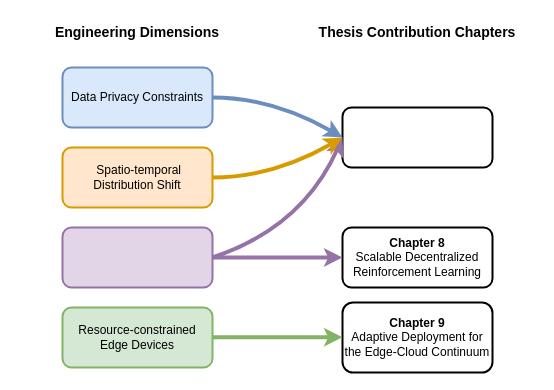
This 554x390 diagram has some shape labels left out. The shapes that lost their labels are listed below. From the top down, each one's centre as x and y in pixels, then its label:
At (417,137): "Chapter 7 Self-Organizing Federated Learning".
At (137,257): "Scalable Decentralization".
